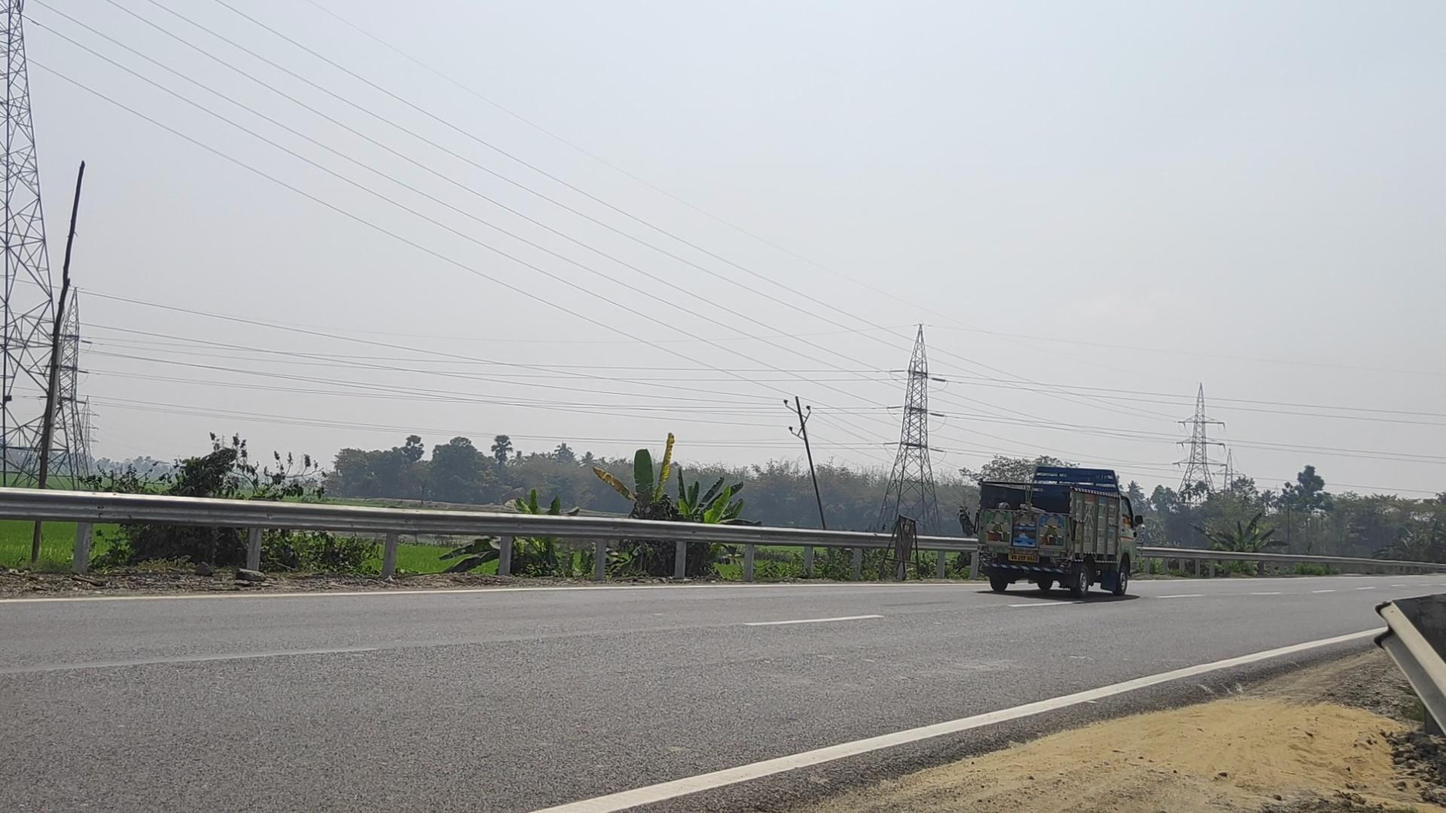van: (974, 466, 1146, 598)
